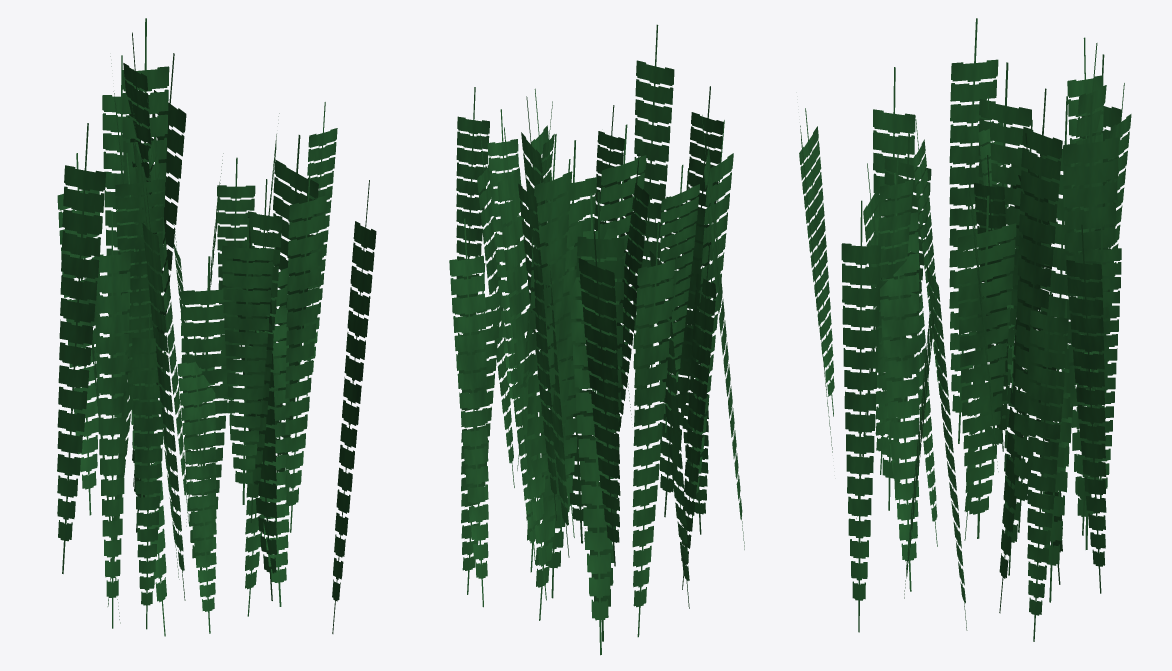
File: fern_cluster.glb
3 views of the same model, side by side, from view 1: azimuth 30°, elevation 25°; view 2: azimuth 150°, elevation 25°; view 3: azimuth 270°, elevation 25° (orthographic). The views are drawn at different scales.
Visible parts, largest first — view 1: fern leaves; view 2: fern leaves; view 3: fern leaves.
Boxes of the visible parts, <box> form: fern leaves: <box>57,18,376,636</box>; fern leaves: <box>449,24,744,655</box>; fern leaves: <box>799,18,1131,641</box>.
Bounding box in the file's own units: 0.8791 × 1.51 × 0.8653.
1 material, 1 textured.
